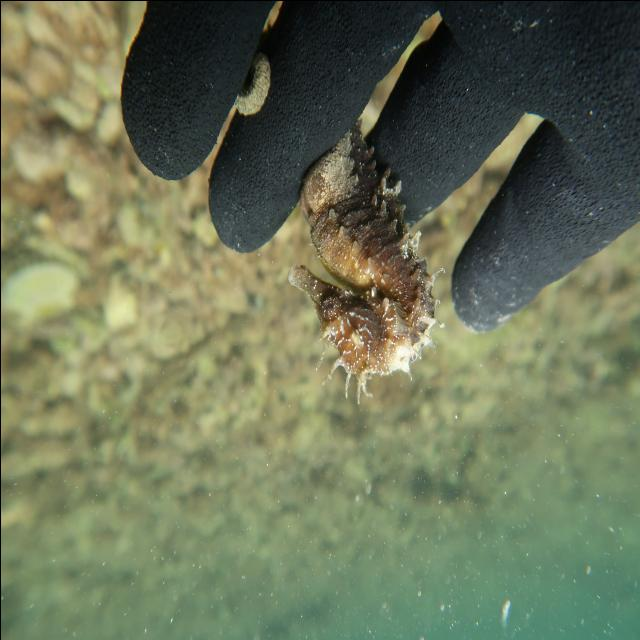Guttu: (282, 257, 393, 380)
